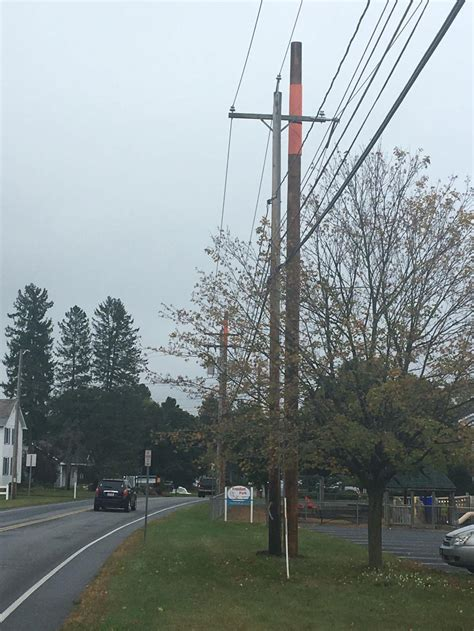pole: (223, 30, 407, 557)
